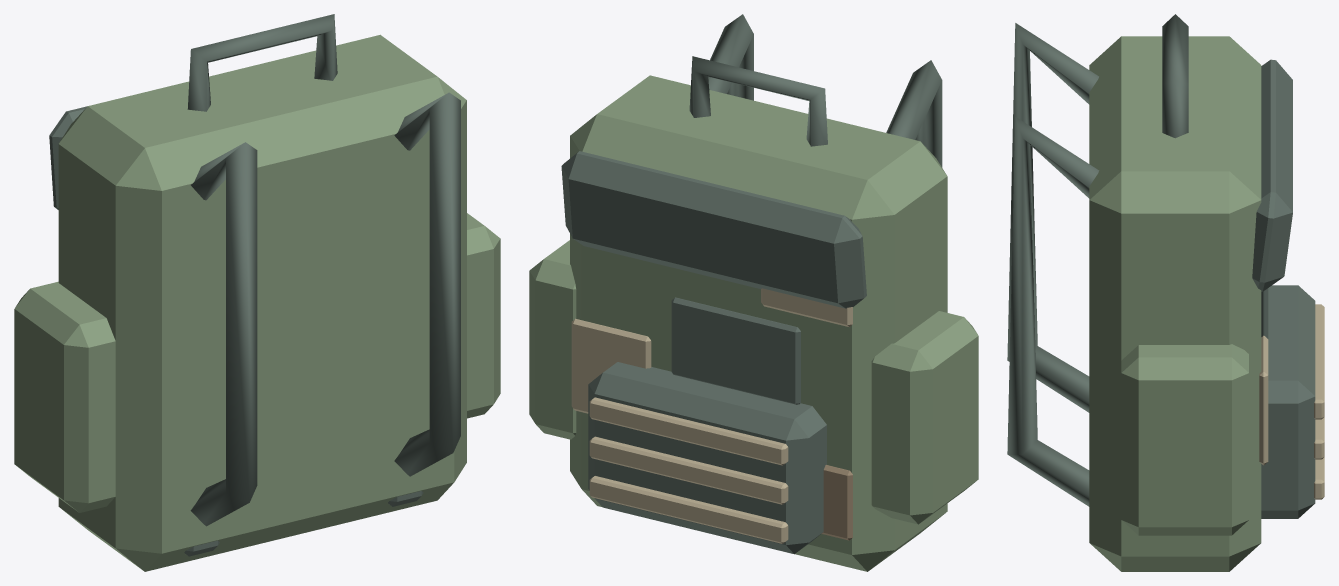
Rendered from BackpackMilitary.glb.
3 renders of one model, left to right at view 1: azimuth 30°, elevation 25°; view 2: azimuth 150°, elevation 25°; view 3: azimuth 270°, elevation 25°, orthographic. The views are drawn at different scales.
Visible parts, largest first — view 1: PackBody, SidePouch_L, ShoulderStrap_L, ShoulderStrap_R, SidePouch_R, CarryHandle, TopFlap; view 2: PackBody, TopFlap, FrontUtilityPouch, SidePouch_L, CamouflagePatch_02, SidePouch_R, MOLLEBand_01, MOLLEBand_02, MOLLEBand_00, CamouflagePatch_03, CarryHandle, ShoulderStrap_L (+3 smaller); view 3: PackBody, SidePouch_R, ShoulderStrap_R, FrontUtilityPouch, TopFlap, ShoulderStrap_L, CarryHandle, CamouflagePatch_03, MOLLEBand_02, MOLLEBand_01, MOLLEBand_00.
Part boxes in pixels (x1=…): PackBody: x1=58, y1=34, x2=466, y2=571; SidePouch_L: x1=14, y1=281, x2=115, y2=512; ShoulderStrap_L: x1=190, y1=142, x2=257, y2=526; ShoulderStrap_R: x1=394, y1=92, x2=460, y2=476; SidePouch_R: x1=467, y1=213, x2=500, y2=418; CarryHandle: x1=187, y1=14, x2=337, y2=111; TopFlap: x1=49, y1=106, x2=87, y2=209; PackBody: x1=570, y1=75, x2=947, y2=571; TopFlap: x1=561, y1=151, x2=866, y2=308; FrontUtilityPouch: x1=588, y1=362, x2=826, y2=554; SidePouch_L: x1=871, y1=311, x2=978, y2=524; CamouflagePatch_02: x1=671, y1=297, x2=800, y2=404; SidePouch_R: x1=529, y1=240, x2=576, y2=439; MOLLEBand_01: x1=589, y1=436, x2=788, y2=504; MOLLEBand_02: x1=589, y1=397, x2=788, y2=465; MOLLEBand_00: x1=589, y1=476, x2=788, y2=543; CamouflagePatch_03: x1=571, y1=318, x2=651, y2=413; CarryHandle: x1=689, y1=56, x2=827, y2=146; ShoulderStrap_L: x1=886, y1=60, x2=942, y2=167; PackBody: x1=1089, y1=36, x2=1261, y2=571; SidePouch_R: x1=1121, y1=344, x2=1248, y2=535; ShoulderStrap_R: x1=1007, y1=117, x2=1099, y2=506; FrontUtilityPouch: x1=1261, y1=285, x2=1315, y2=518; TopFlap: x1=1252, y1=59, x2=1292, y2=291; ShoulderStrap_L: x1=1007, y1=23, x2=1098, y2=412; CarryHandle: x1=1162, y1=14, x2=1188, y2=138; CamouflagePatch_03: x1=1259, y1=335, x2=1268, y2=465; MOLLEBand_02: x1=1314, y1=304, x2=1324, y2=419; MOLLEBand_01: x1=1314, y1=417, x2=1324, y2=459; MOLLEBand_00: x1=1314, y1=457, x2=1324, y2=499.
Bounding box in the file's own units: 0.97 × 1.03 × 0.6454.
